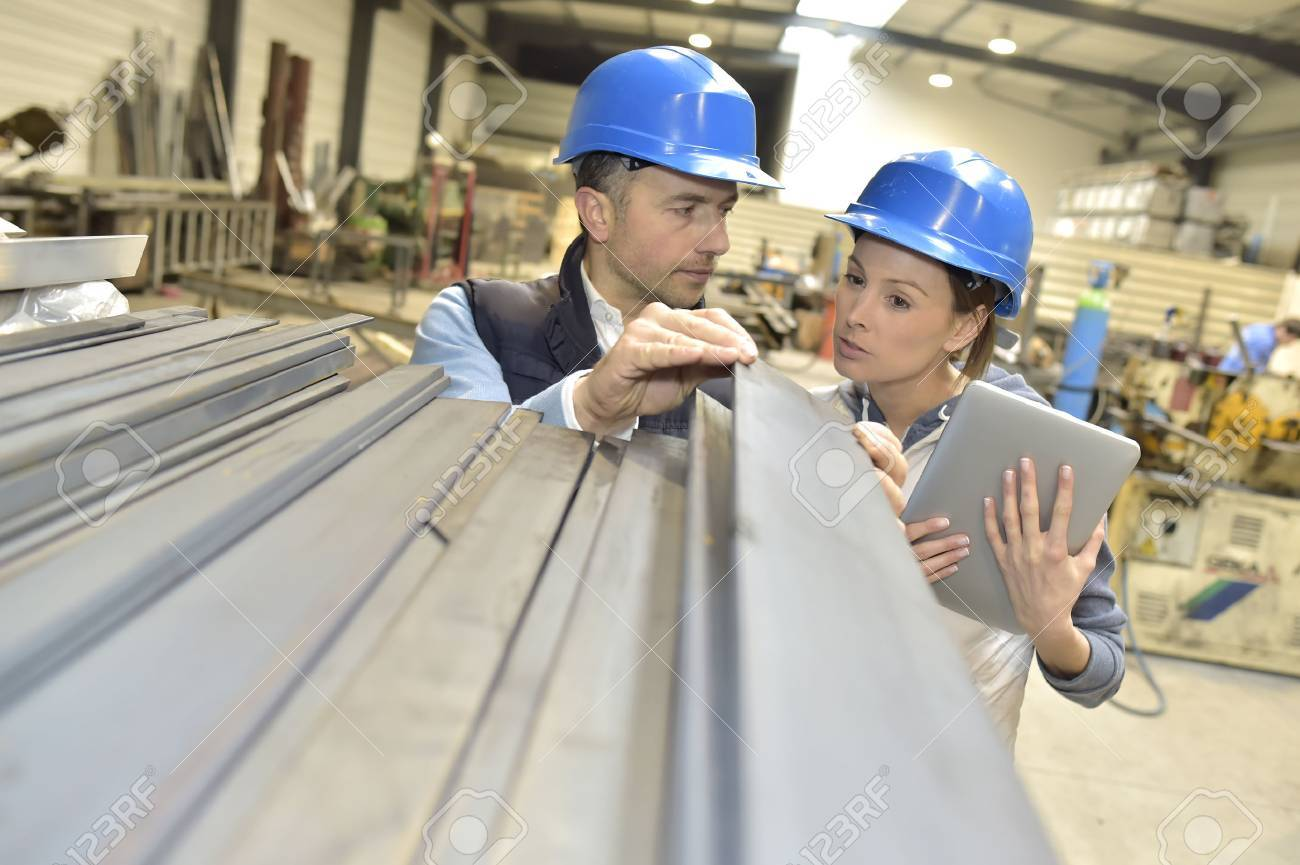casco: (821, 147, 1035, 320), (550, 41, 790, 194)
